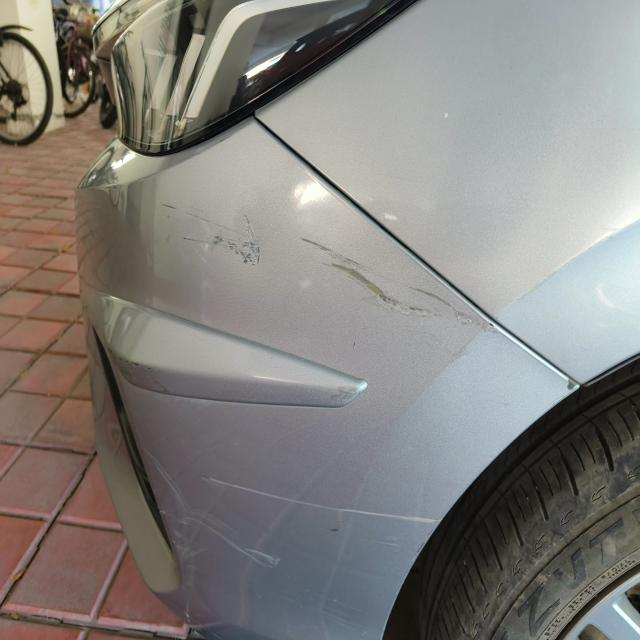scratch: (133, 431, 444, 619), (289, 227, 498, 342), (150, 189, 264, 273)
